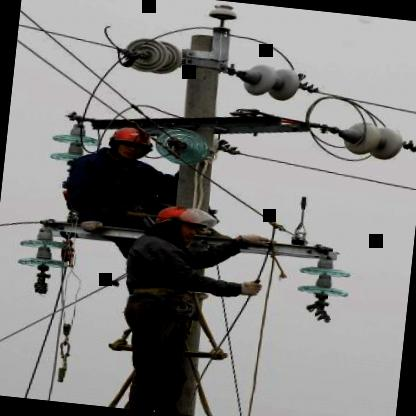helmet: (153, 204, 207, 241), (105, 125, 152, 159)
